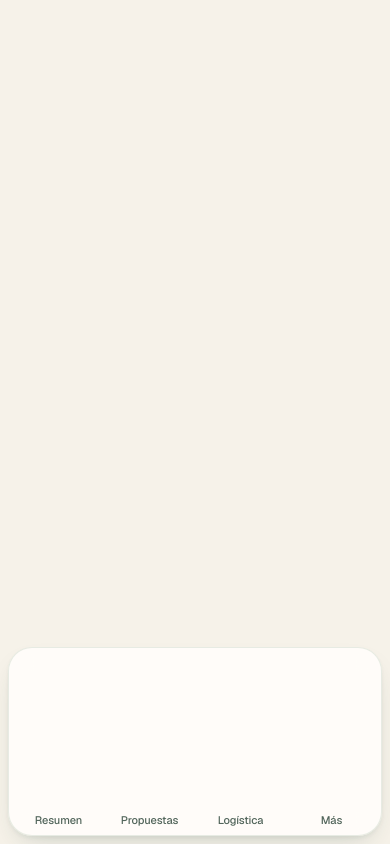
BottomNav › opens a dialog with the secondary items only, and not the primary ones
The width and height of the screenshot is (390, 844).
Click the button "Más": (332, 741) [286,652,377,831]
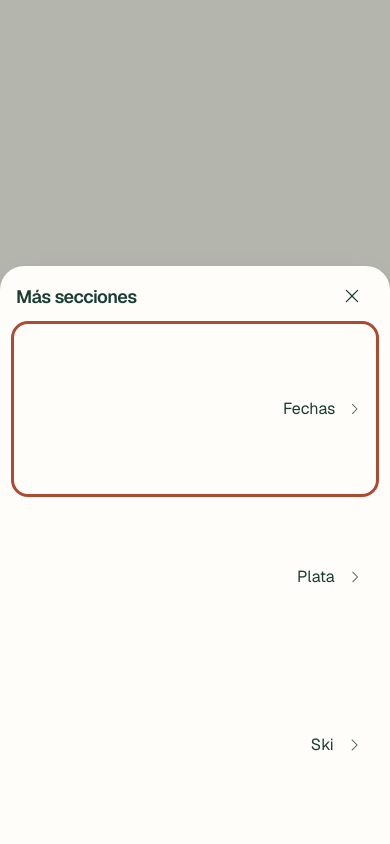
Check: the links read "Fechas", "Plata", "Ski", in this order, box [16,326,374,492]; [16,494,374,660]; [16,662,374,828]
Check: the button "Más" is expanded, box [286,652,377,831]
